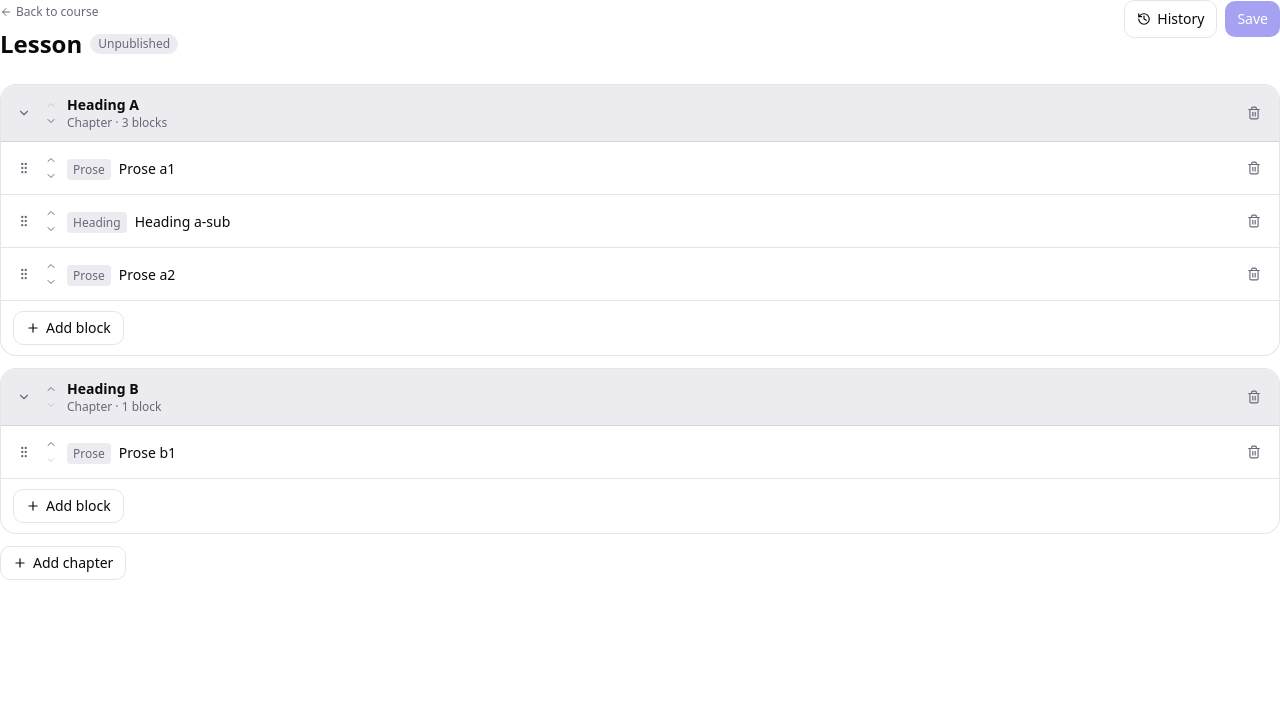
Test case: LessonContentEditor — chapter outline (AUTH-017) › cancelling the delete confirm changes nothing
Click the 2nd button named "Delete chapter".
click(1254, 397)  # box [1241, 384, 1267, 410]
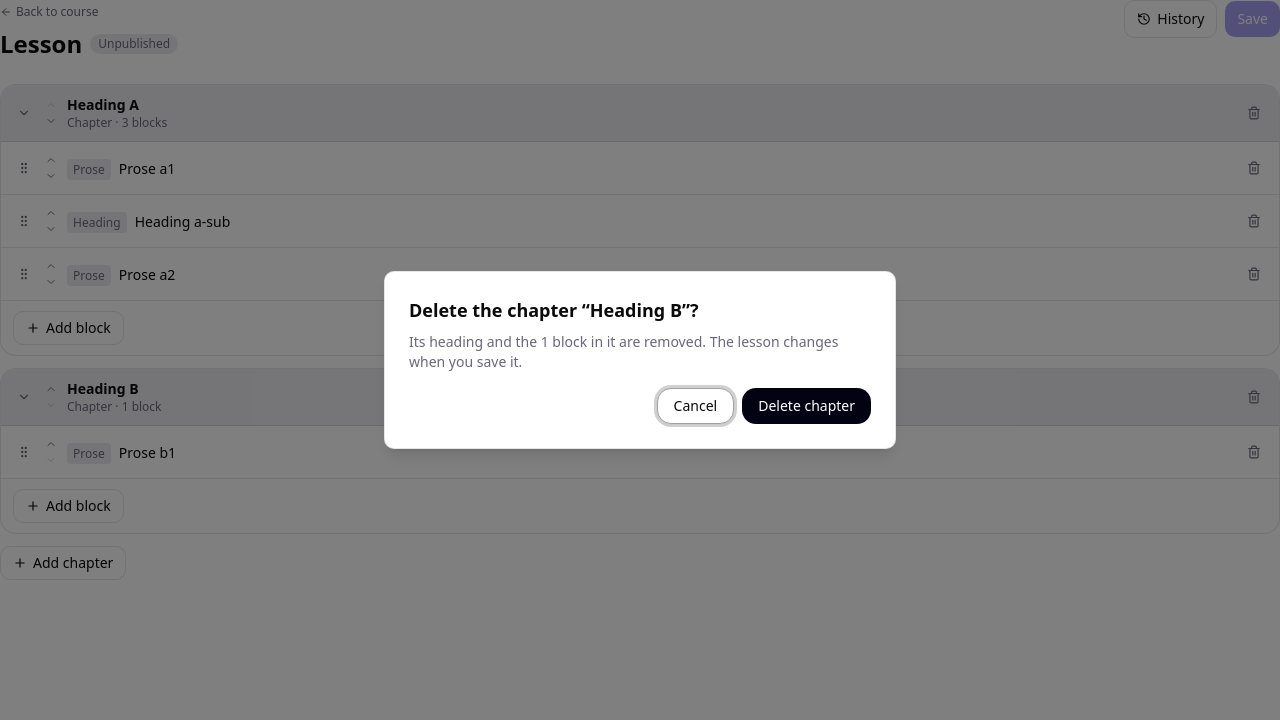
Click the button "Cancel".
click(695, 406)  # box [657, 388, 734, 424]
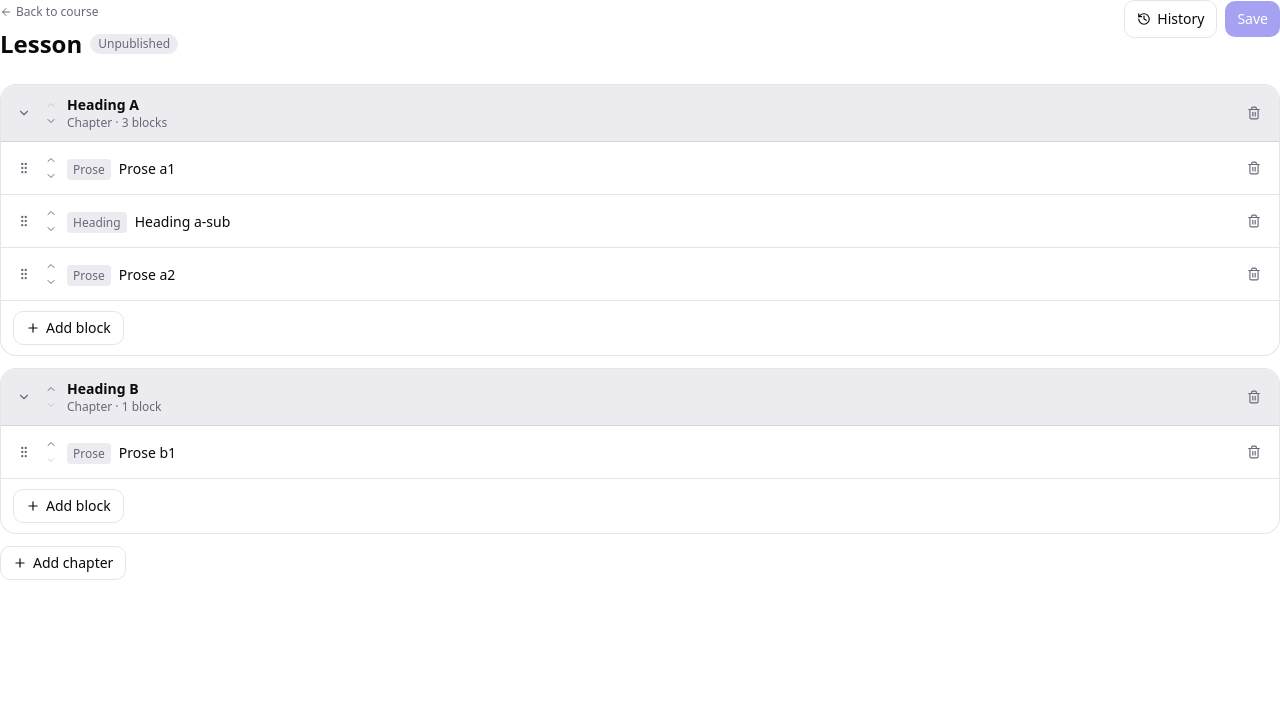
Expected: the button "Save" is disabled, [1225, 1, 1279, 37]
Expected: the dialog is gone
